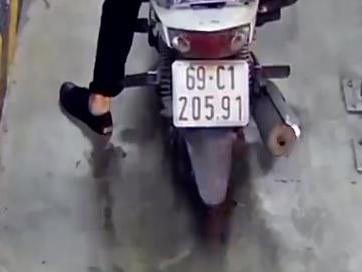num_plate: (171, 58, 250, 127)
